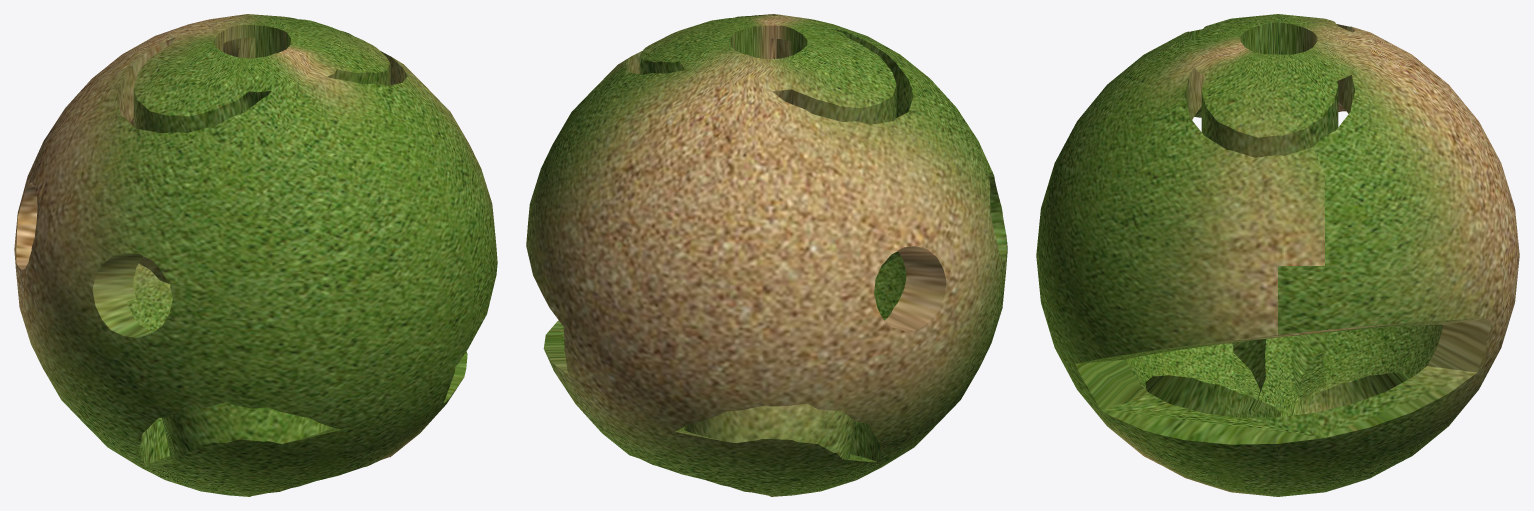
Rendered from Map.FBX.
3 renders of one model, left to right at view 1: azimuth 30°, elevation 25°; view 2: azimuth 150°, elevation 25°; view 3: azimuth 270°, elevation 25°, orthographic.
Parts seen in each view (by area): view 1: base; view 2: base; view 3: base.
Boxes of the visible parts, x1=… form: base: x1=14, y1=14, x2=497, y2=496; base: x1=526, y1=14, x2=1007, y2=496; base: x1=1036, y1=14, x2=1519, y2=496.
Bounding box in the file's own units: 425 × 424 × 427.
Materials: 1 (1 with a texture image).
